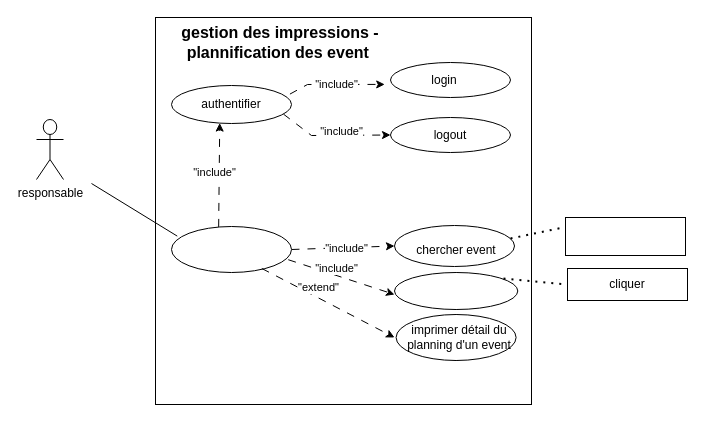
Image size: 705x422. Some labels were removed from this diagram. Each missing label, with the centre of its shape:
"choisir event" goes at point 456,291.
"filtrer" goes at point 625,236.
"gérer les impressions" goes at point 231,249.
